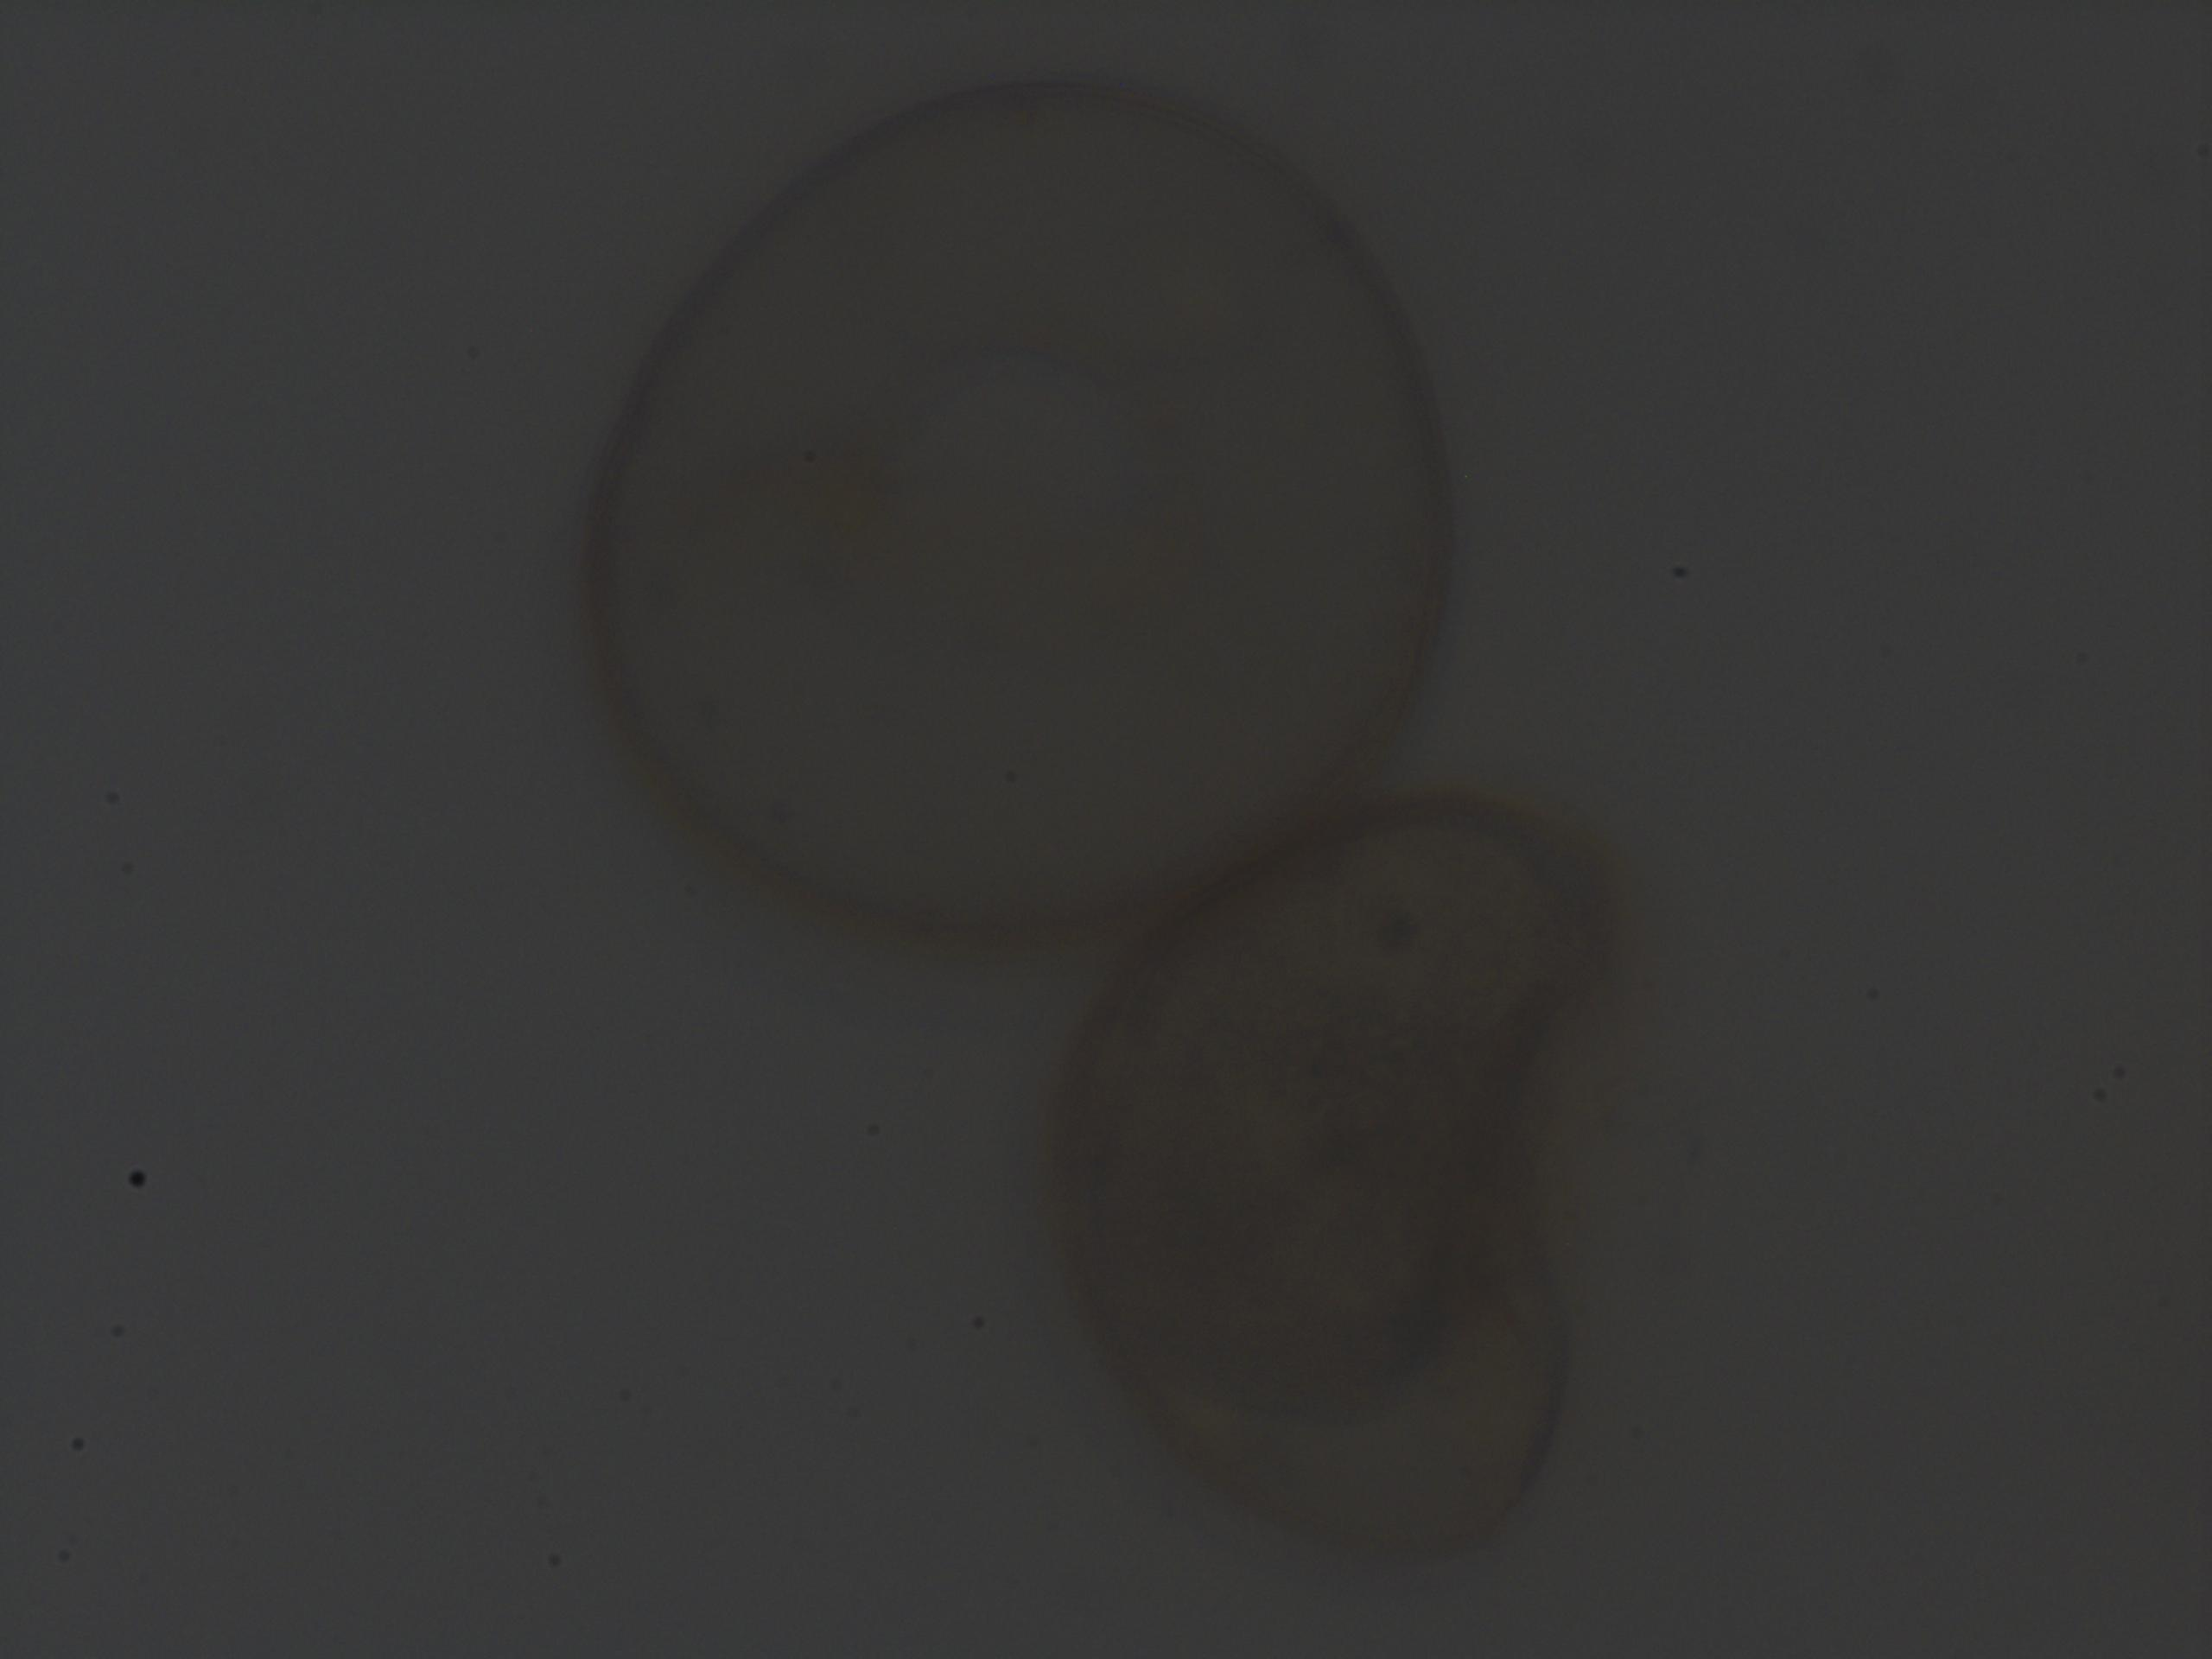protozoa: (563, 77, 1491, 971), (1049, 791, 1618, 1584)
